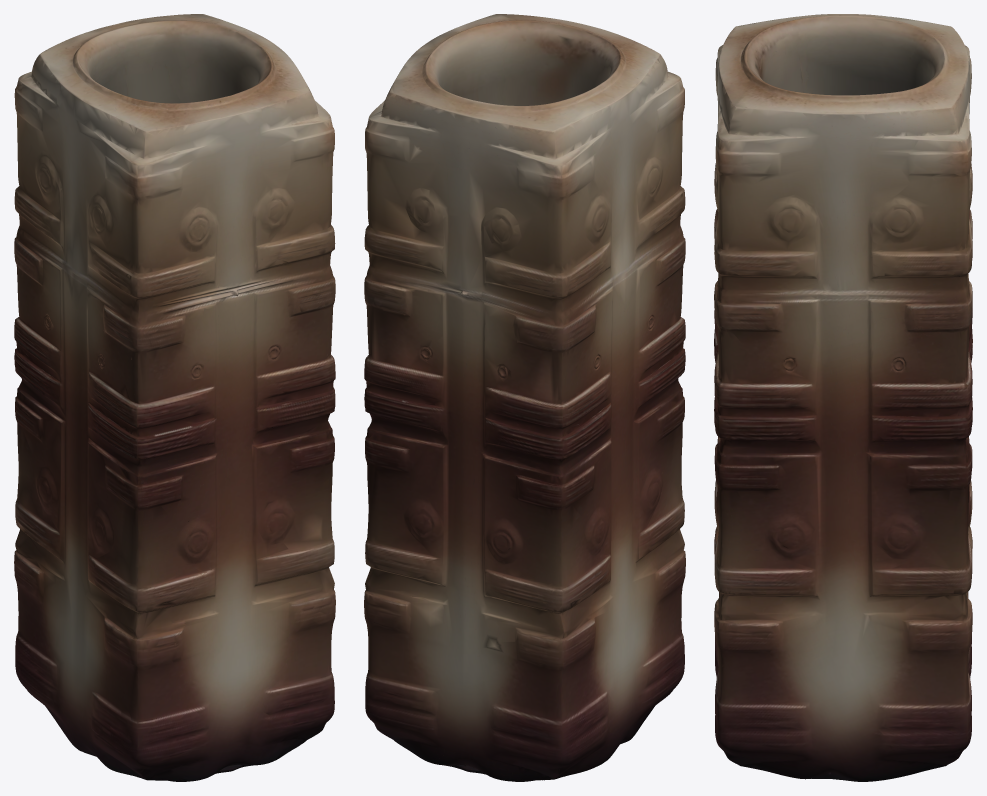
File: song-archaic-detail.glb
3 renders of one model, left to right at view 1: azimuth 30°, elevation 25°; view 2: azimuth 150°, elevation 25°; view 3: azimuth 270°, elevation 25°, orthographic.
Visible parts, largest first — view 1: node_0; view 2: node_0; view 3: node_0.
Boxes of the visible parts, left/top/right/bottom form: node_0: left=14, top=14, right=335, bottom=781; node_0: left=364, top=14, right=685, bottom=781; node_0: left=714, top=14, right=972, bottom=781.
Bounding box in the file's own units: 0.3707 × 1.16 × 0.3932.
1 material, 1 textured.
